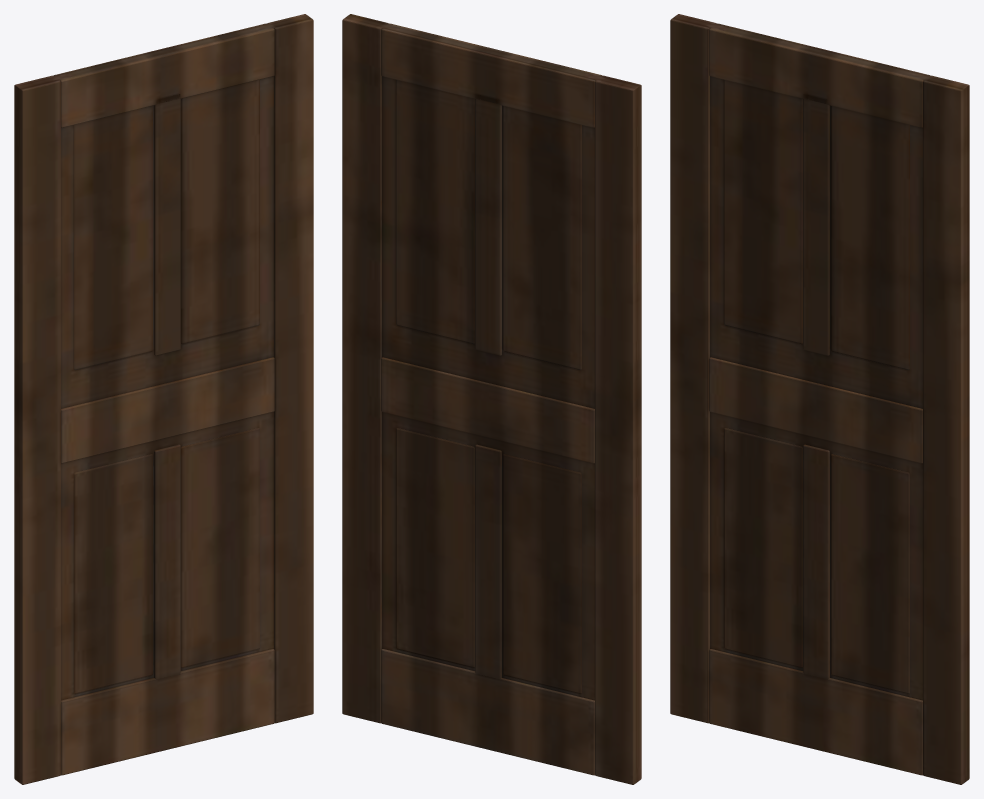
The model's file is office_door_leaf.glb.
3 views of the same model, side by side, from view 1: azimuth 30°, elevation 25°; view 2: azimuth 150°, elevation 25°; view 3: azimuth 330°, elevation 25° (orthographic).
Parts seen in each view (by area): view 1: office_door_leaf; view 2: office_door_leaf; view 3: office_door_leaf.
Part boxes in pixels (box(x1,y1,x2,y2)): office_door_leaf: box(14, 14, 313, 784); office_door_leaf: box(342, 14, 641, 784); office_door_leaf: box(670, 14, 969, 784).
Size of the model in its own units: 0.9 by 2.05 by 0.045.
Materials: 1 (1 with a texture image).
